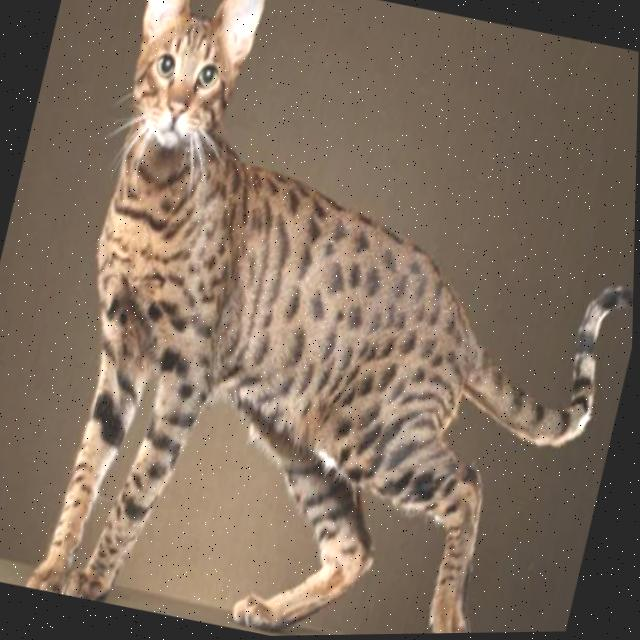Savannah: (6, 0, 640, 640)
